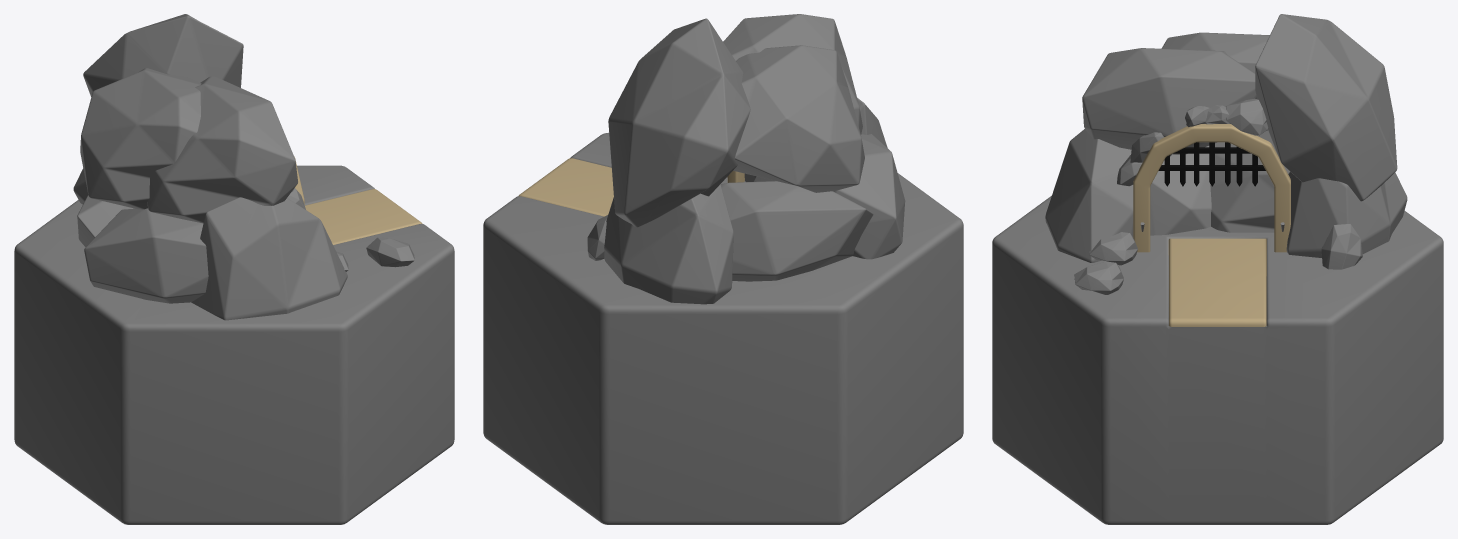
File: Start.fbx
The picture shows the model from 3 angles, left to right: view 1: azimuth 30°, elevation 25°; view 2: azimuth 150°, elevation 25°; view 3: azimuth 270°, elevation 25°; orthographic projection. The views are drawn at different scales.
Visible parts, largest first — view 1: Cylinder041; view 2: Cylinder041; view 3: Cylinder041.
Boxes of the visible parts, left/top/right/bottom form: Cylinder041: left=14, top=14, right=454, bottom=524; Cylinder041: left=483, top=14, right=963, bottom=524; Cylinder041: left=992, top=14, right=1443, bottom=524.
Bounding box in the file's own units: 173 × 204 × 199.
